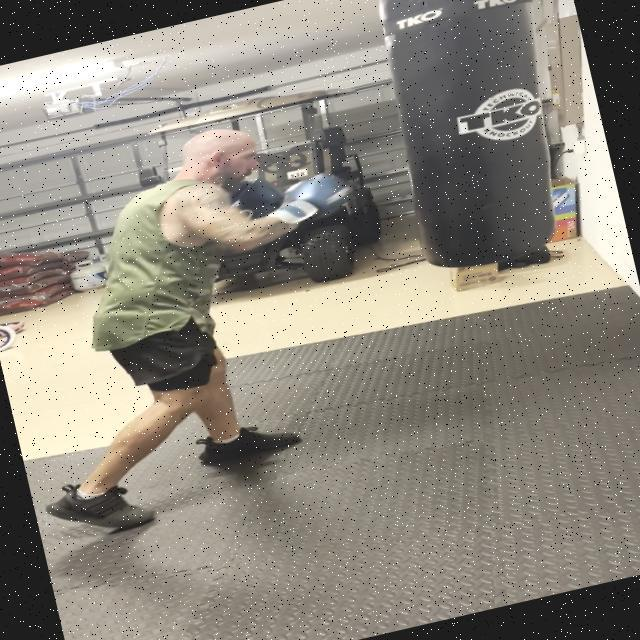bag: (367, 0, 588, 279)
cross: (70, 80, 370, 308)
